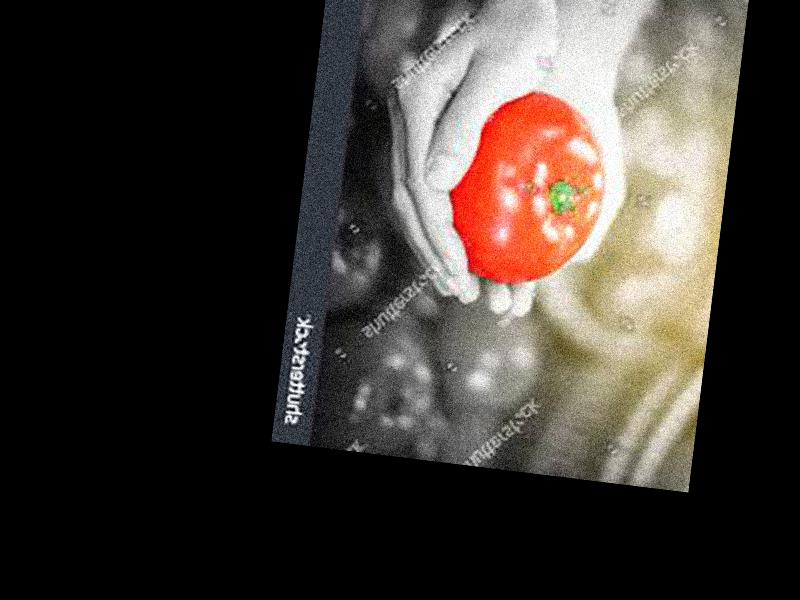Tomato: (441, 83, 614, 292)
